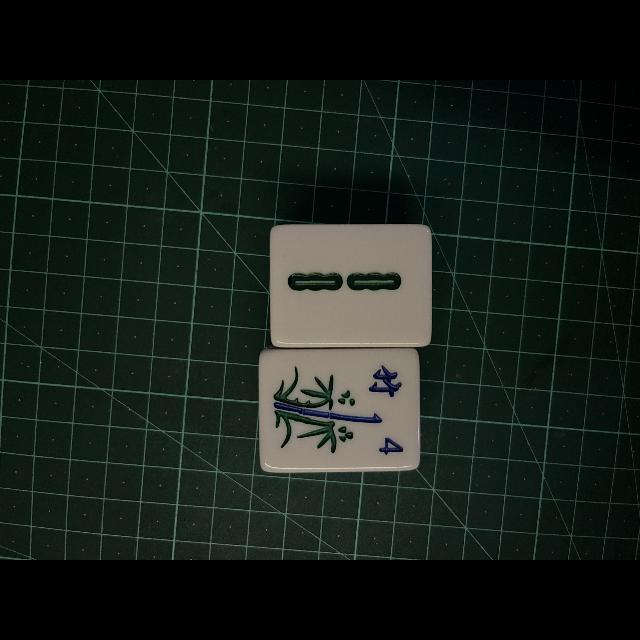b2: (274, 229, 428, 345)
f4: (360, 353, 418, 469)
